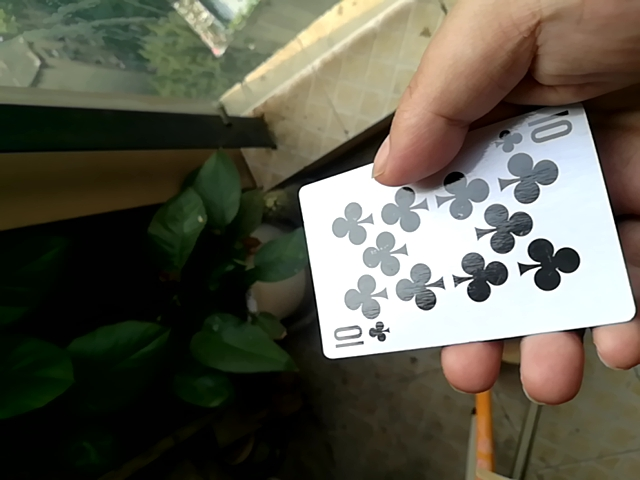mh 10: (286, 115, 640, 359)
